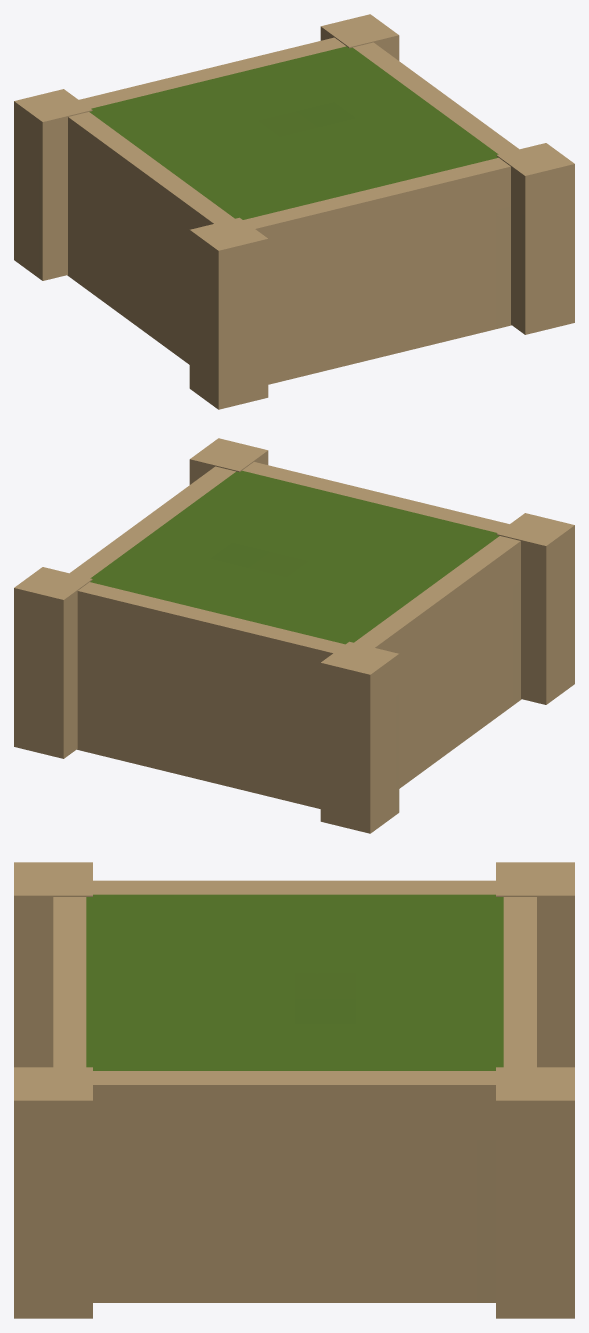
Rendered from planter.obj.
3 renders of one model, top to bottom at view 1: azimuth 30°, elevation 25°; view 2: azimuth 150°, elevation 25°; view 3: azimuth 270°, elevation 25°, orthographic. The views are drawn at different scales.
Visible parts, largest first — view 1: Planter; view 2: Planter; view 3: Planter.
Part boxes in pixels (x1,y1,x2,y2): Planter: (14, 14, 574, 409); Planter: (14, 438, 574, 833); Planter: (14, 862, 574, 1318).
Size of the model in its own units: 5.01 by 2.15 by 4.98.
Materials: 1 (1 with a texture image).
